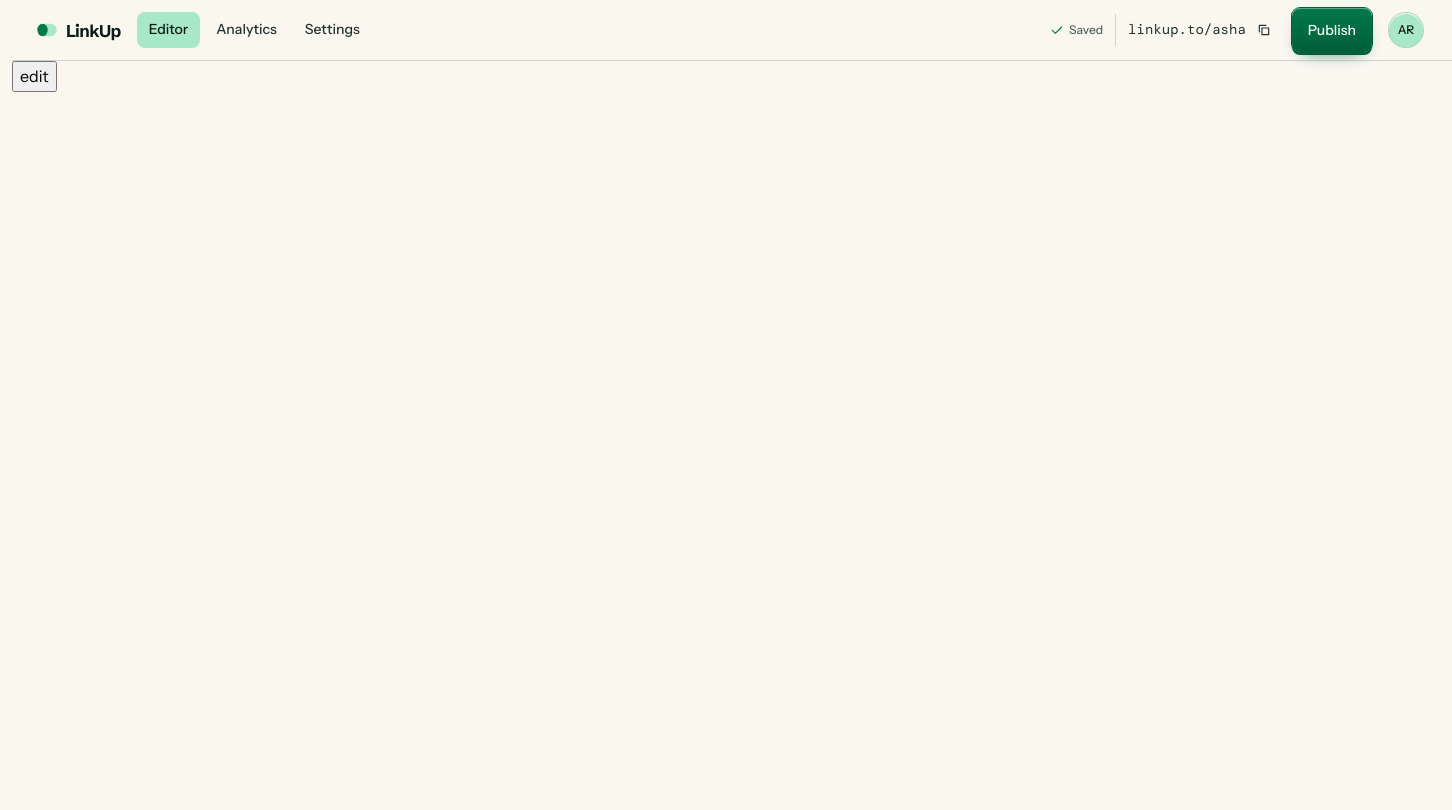
AppShell › opens on ArrowUp at the last item, and closes on a tap outside
Press ArrowUp in the button with aria-label "Account menu", box [1384, 8, 1428, 52]
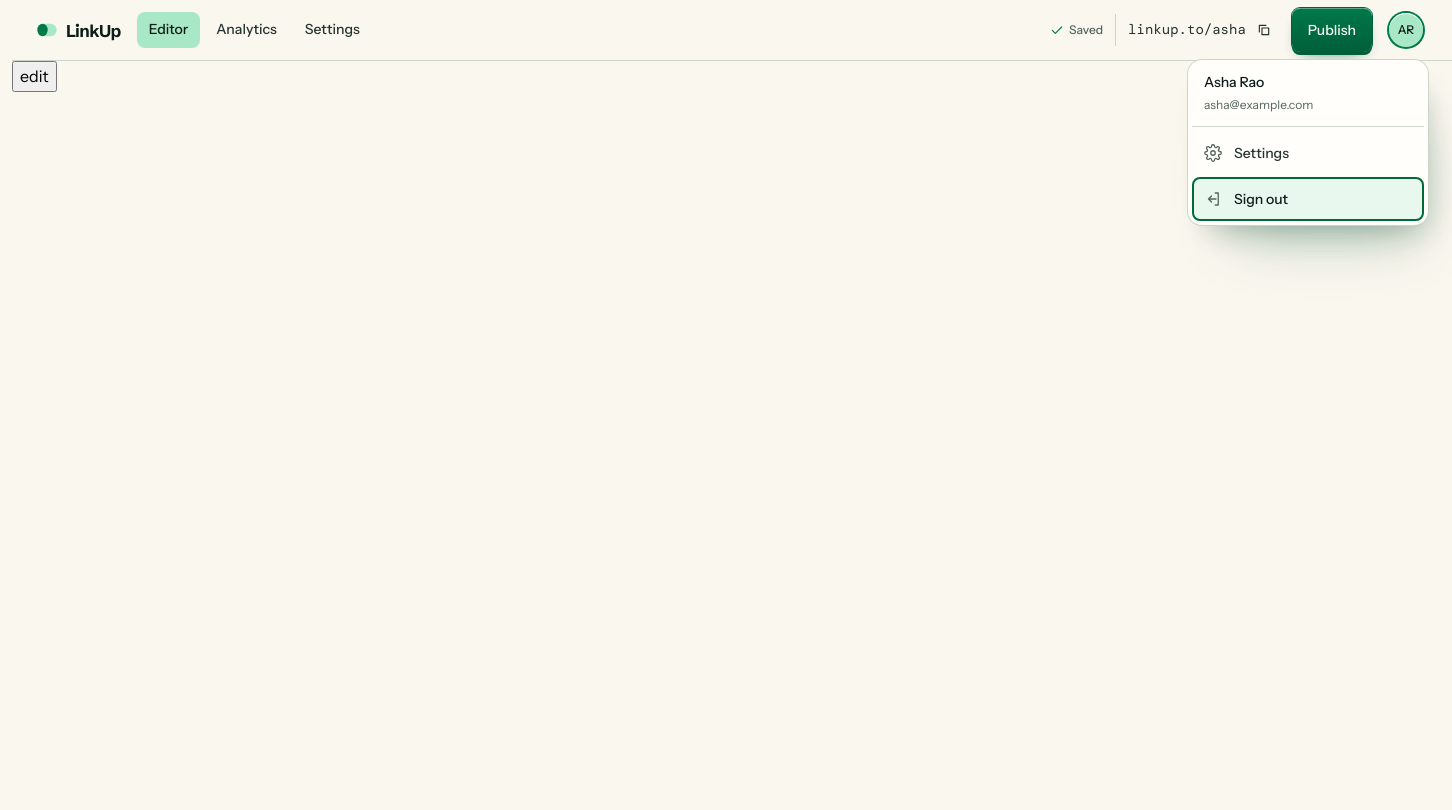
Result: the menu item "Sign out" is shown at [1192, 177, 1424, 221]
Press the mouse on the element that starts with "Skip to content" at (732, 405), box [12, 0, 1451, 809]
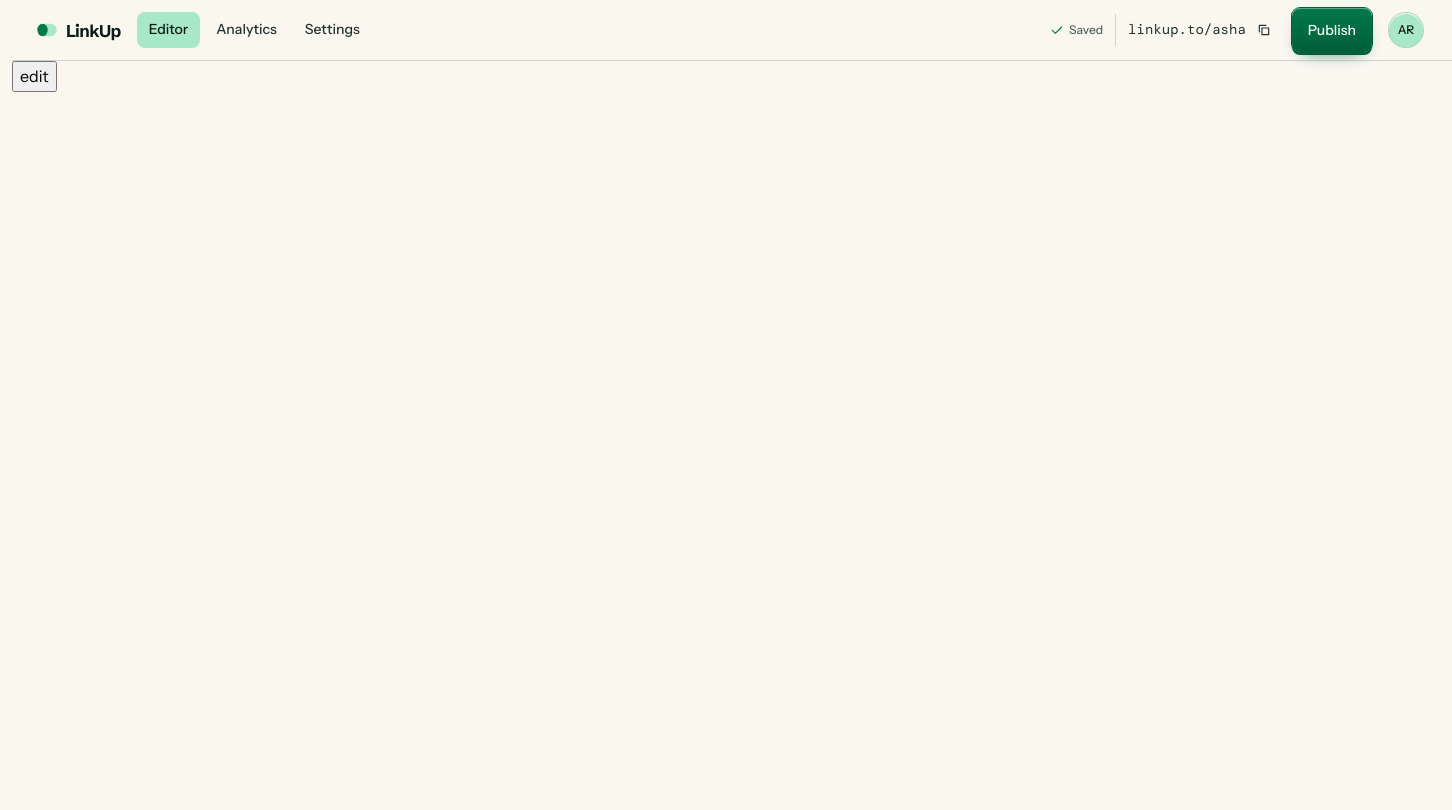
Result: the menu "Settings Sign out" is gone
